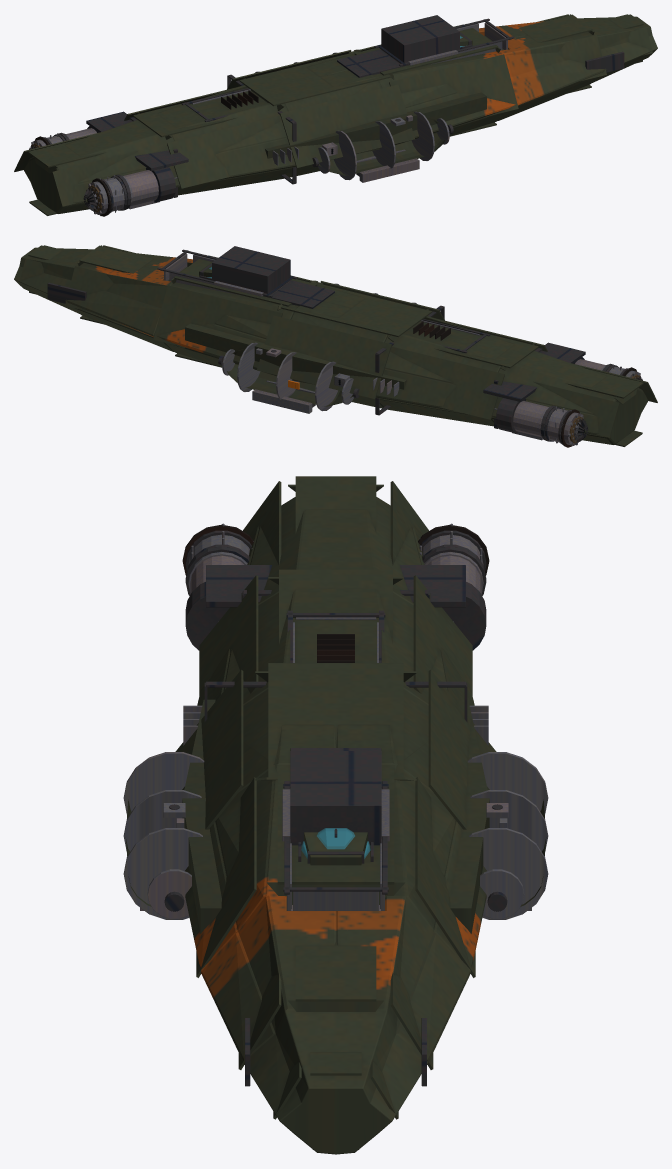
File: mule_production_v1_lod0.glb
The picture shows the model from 3 angles, top to bottom: view 1: azimuth 30°, elevation 25°; view 2: azimuth 150°, elevation 25°; view 3: azimuth 270°, elevation 25°; orthographic projection. The views are drawn at different scales.
Visible parts, largest first — view 1: LOD0_Hull, LOD0_Armor, LOD0_Mechanical, LOD0_Radiator; view 2: LOD0_Hull, LOD0_Armor, LOD0_Mechanical, LOD0_Radiator; view 3: LOD0_Hull, LOD0_Mechanical, LOD0_Armor, LOD0_Radiator.
Boxes of the visible parts, box(x1,y1,x2,y2) form: LOD0_Hull: box(14, 14, 657, 215); LOD0_Armor: box(29, 15, 624, 213); LOD0_Mechanical: box(30, 22, 507, 216); LOD0_Radiator: box(35, 90, 258, 216); LOD0_Hull: box(14, 245, 657, 446); LOD0_Armor: box(47, 246, 642, 444); LOD0_Mechanical: box(164, 253, 641, 445); LOD0_Radiator: box(413, 321, 636, 447); LOD0_Hull: box(125, 476, 546, 1154); LOD0_Mechanical: box(123, 523, 548, 919); LOD0_Armor: box(164, 530, 507, 1086); LOD0_Radiator: box(182, 524, 489, 662).
Size of what is drawn, in the model's own units: 17.76 by 2.95 by 5.39.
Materials: 9 (9 with a texture image).
